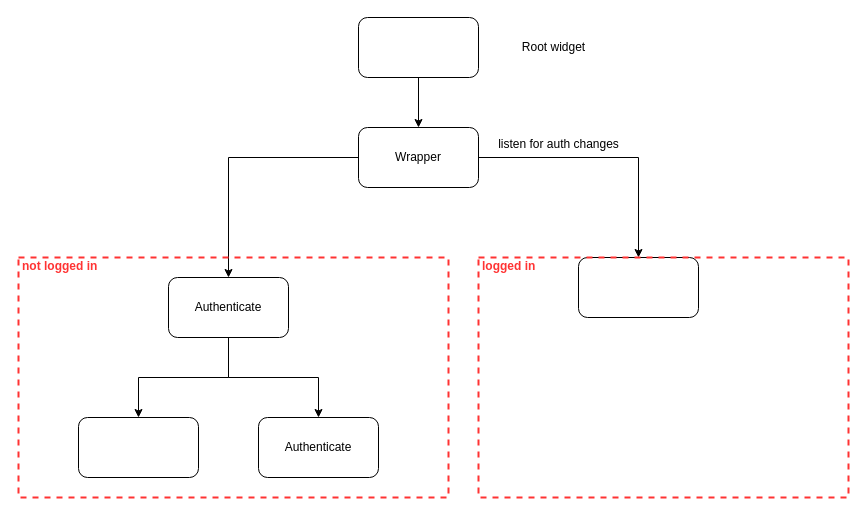
This 866x516 diagram has some shape labels left out. The centre of each missing label's shape, as x and y in pixels:
Home: the point at 638,287
MyApp: the point at 418,47
SignIn: the point at 138,447
